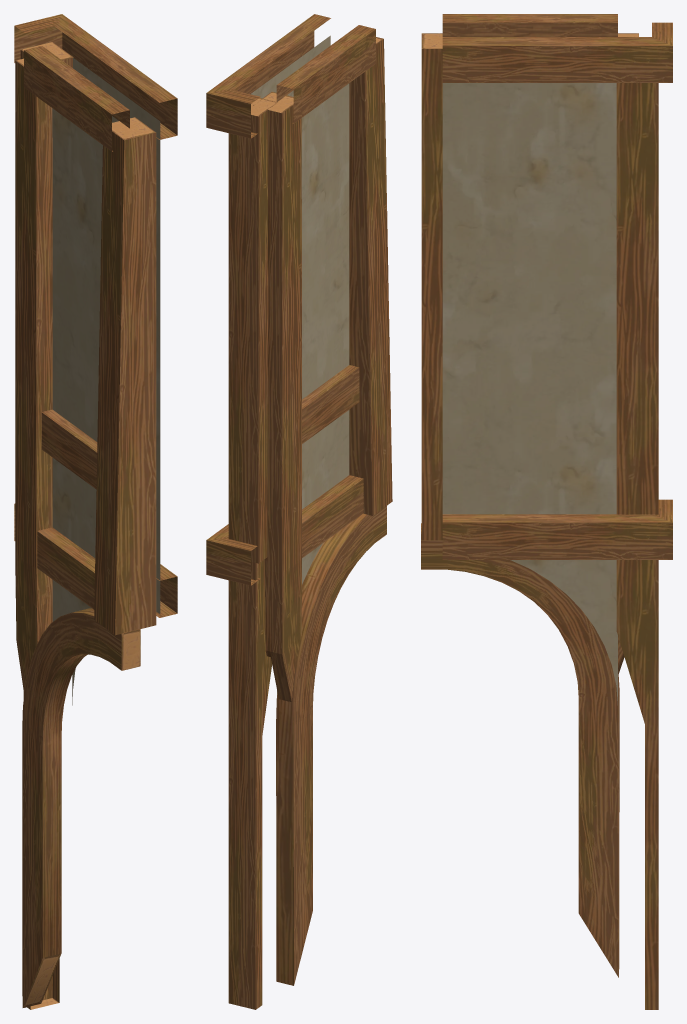
Rendered from Overhang_Side_Plaster_Short_L.glb.
3 renders of one model, left to right at view 1: azimuth 30°, elevation 25°; view 2: azimuth 150°, elevation 25°; view 3: azimuth 270°, elevation 25°, orthographic. The views are drawn at different scales.
Visible parts, largest first — view 1: Overhang_Side_Plaster_Short_L; view 2: Overhang_Side_Plaster_Short_L; view 3: Overhang_Side_Plaster_Short_L.
Boxes of the visible parts, x1,y1,x2,y2 form: Overhang_Side_Plaster_Short_L: [14, 14, 177, 1009]; Overhang_Side_Plaster_Short_L: [206, 14, 392, 1009]; Overhang_Side_Plaster_Short_L: [421, 14, 672, 1009].
Size of the model in its own units: 0.4794 by 6.12 by 1.44.
2 materials, 2 textured.
